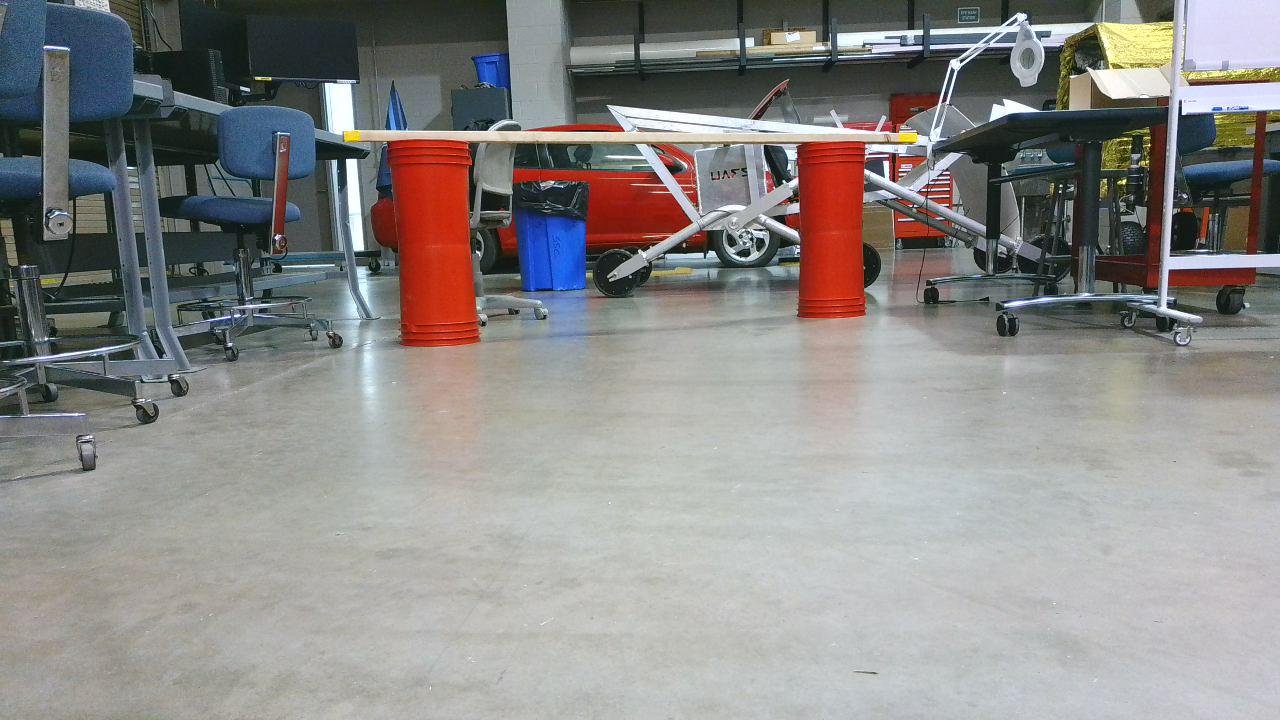red_bucket_arch: (398, 131, 871, 354)
